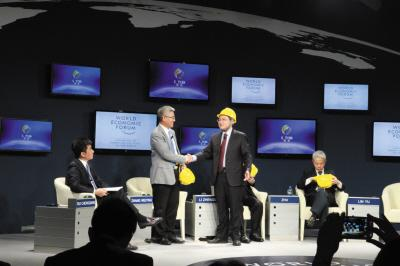helmet: (176, 166, 202, 186), (313, 173, 335, 191), (219, 108, 239, 122)
